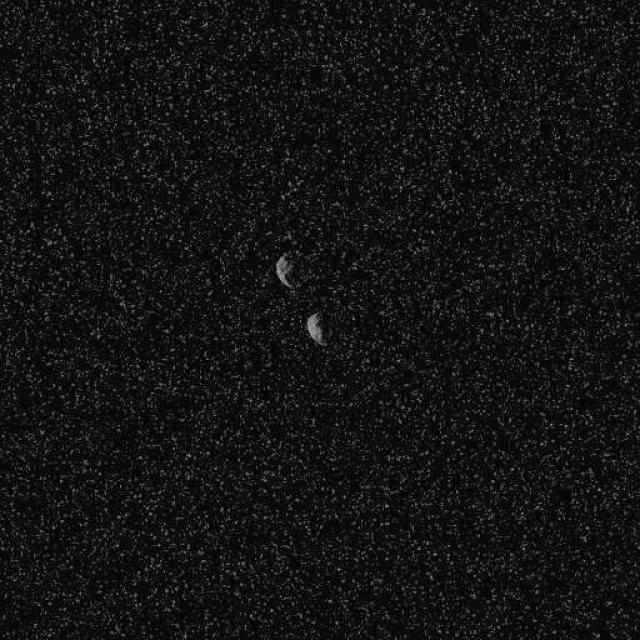D2: (274, 251, 296, 289), (305, 310, 325, 345)
